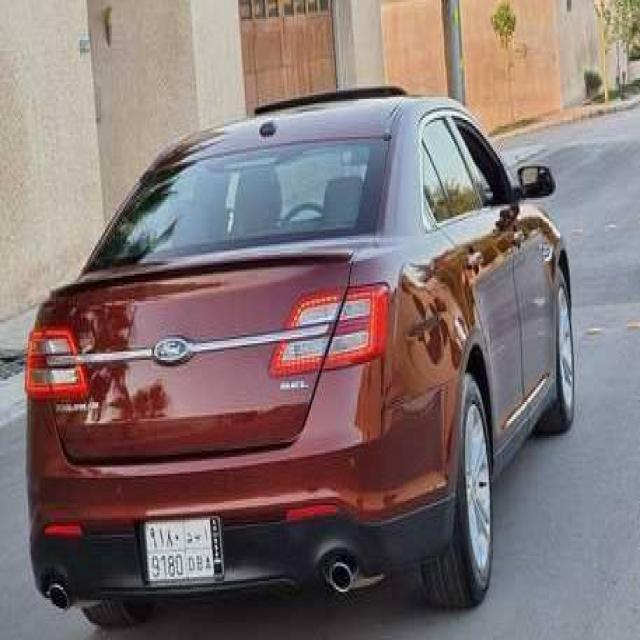license_plate: (135, 503, 224, 592)
